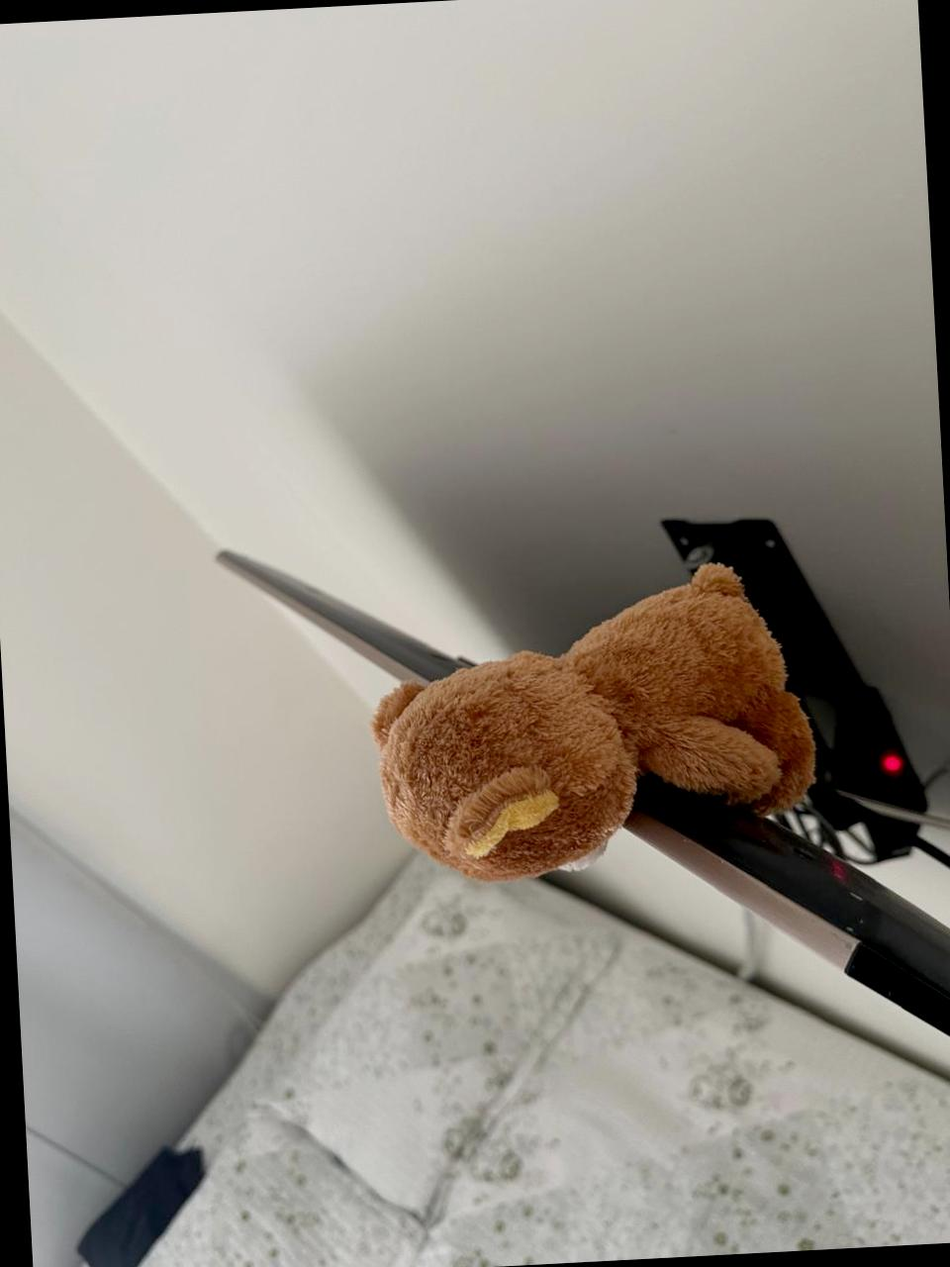peluche_sebastian: (356, 556, 834, 882)
